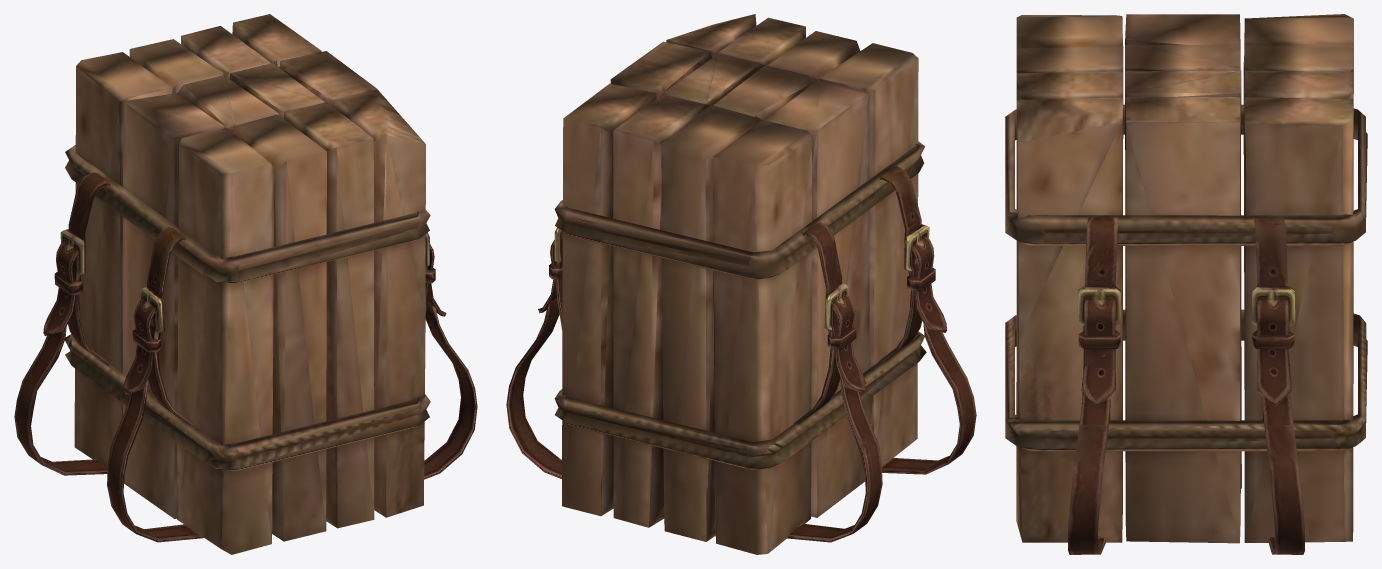
The model's file is pack_lumberBundle.glb.
3 renders of one model, left to right at view 1: azimuth 30°, elevation 25°; view 2: azimuth 150°, elevation 25°; view 3: azimuth 270°, elevation 25°, orthographic. The views are drawn at different scales.
Size of the model in its own units: 0.9262 by 0.9531 by 0.7397.
1 material, 1 textured.
